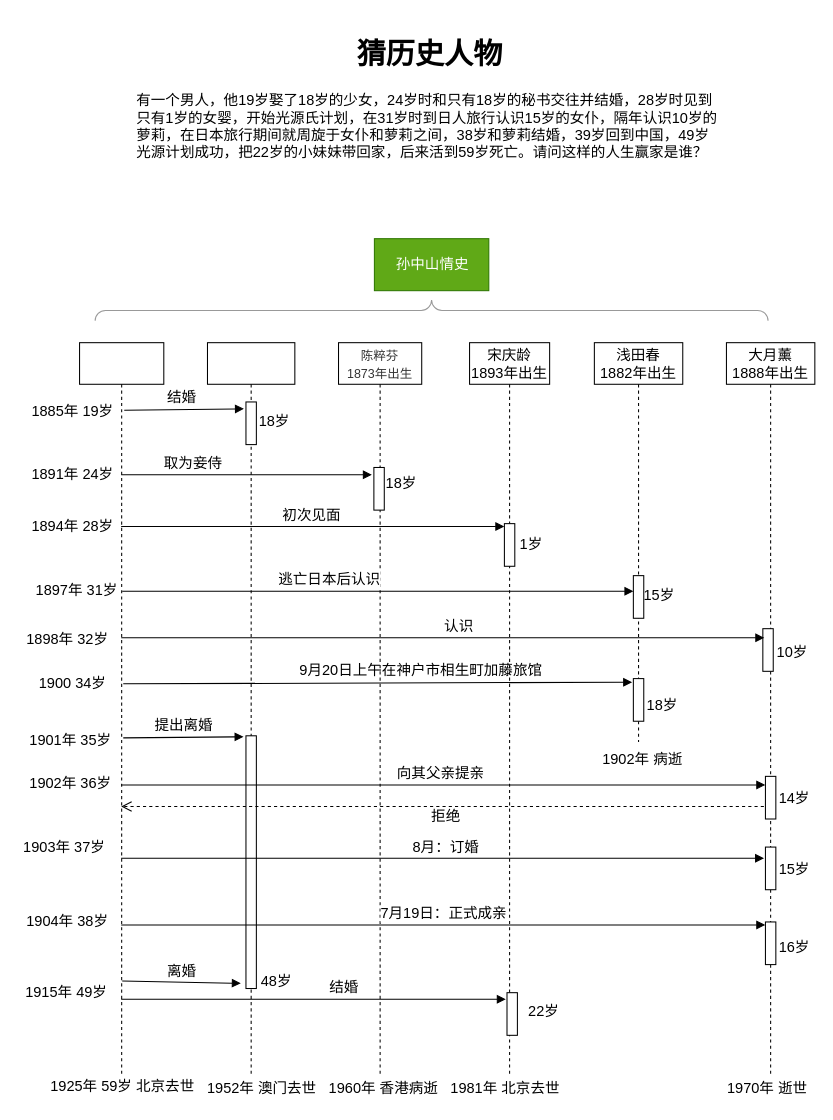
Some shapes in this 833 by 1120 pixel diagram are drawn without their labels. Here are the shapes that lost their labels. From the top down, the box of each, then its label:
(79, 342, 164, 1074): 孙中山 1866年出生
(206, 342, 295, 1074): 卢慕贞(原配) 1867年出生
